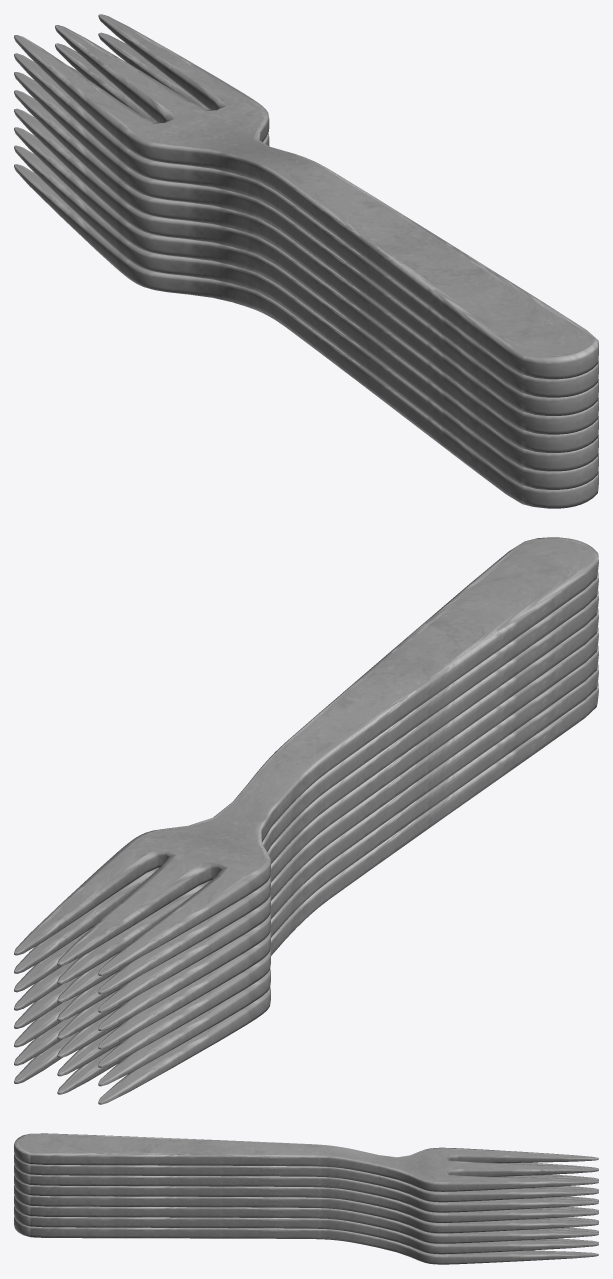
The model's file is ForkStack.fbx.
3 renders of one model, top to bottom at view 1: azimuth 30°, elevation 25°; view 2: azimuth 150°, elevation 25°; view 3: azimuth 270°, elevation 25°, orthographic. The views are drawn at different scales.
Visible parts, largest first — view 1: Fork; view 2: Fork; view 3: Fork.
Part boxes in pixels (box(x1,y1,x2,y2)): Fork: box(14, 14, 598, 508); Fork: box(14, 537, 598, 1104); Fork: box(14, 1133, 598, 1264).
Size of the model in its own units: 2.48 by 3.38 by 17.05.
